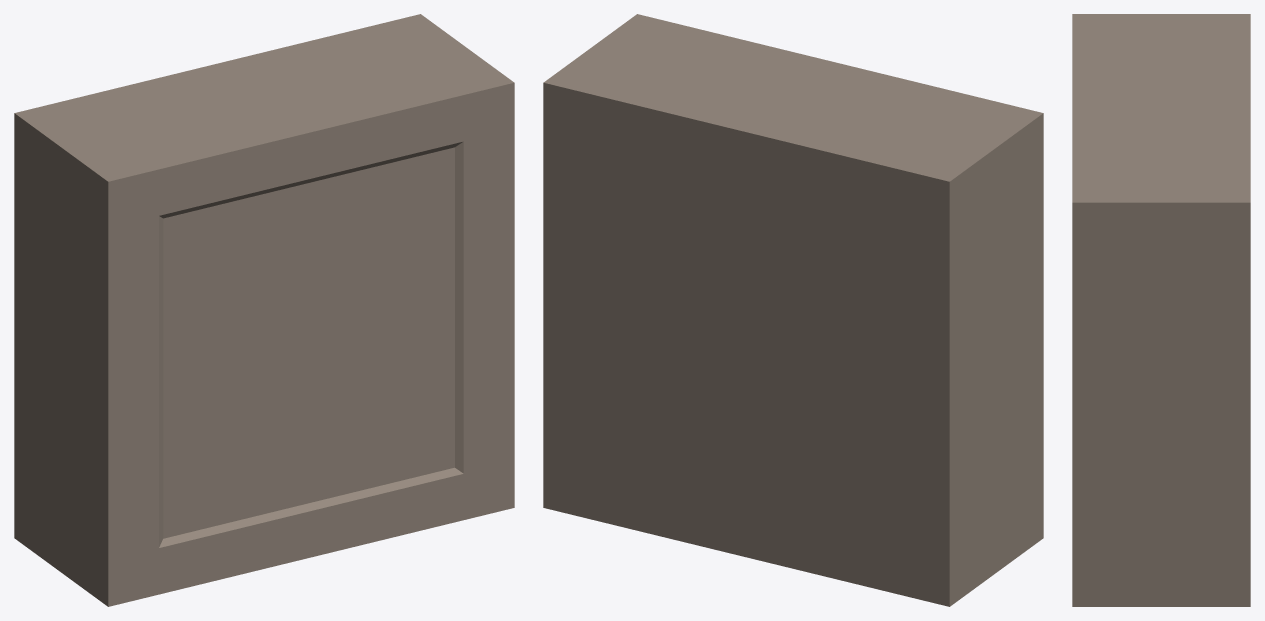
File: Wall-Cabinet-Single-Door-with-Shelves_std_001_W30in.glb
3 views of the same model, side by side, from view 1: azimuth 30°, elevation 25°; view 2: azimuth 150°, elevation 25°; view 3: azimuth 270°, elevation 25° (orthographic). The views are drawn at different scales.
Parts seen in each view (by area): view 1: Wall-Cabinet-Single-Door-with-Shelves.std.001_W30in; view 2: Wall-Cabinet-Single-Door-with-Shelves.std.001_W30in; view 3: Wall-Cabinet-Single-Door-with-Shelves.std.001_W30in.
Boxes of the visible parts, bbox=[...] form: Wall-Cabinet-Single-Door-with-Shelves.std.001_W30in: bbox=[14, 14, 514, 606]; Wall-Cabinet-Single-Door-with-Shelves.std.001_W30in: bbox=[543, 14, 1043, 606]; Wall-Cabinet-Single-Door-with-Shelves.std.001_W30in: bbox=[1072, 14, 1250, 606].
Bounding box in the file's own units: 0.762 × 0.762 × 0.3048.
